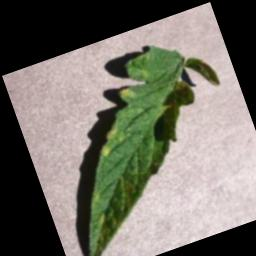Leaf_Mold: (103, 126, 121, 142), (116, 85, 133, 100), (98, 143, 113, 159)
